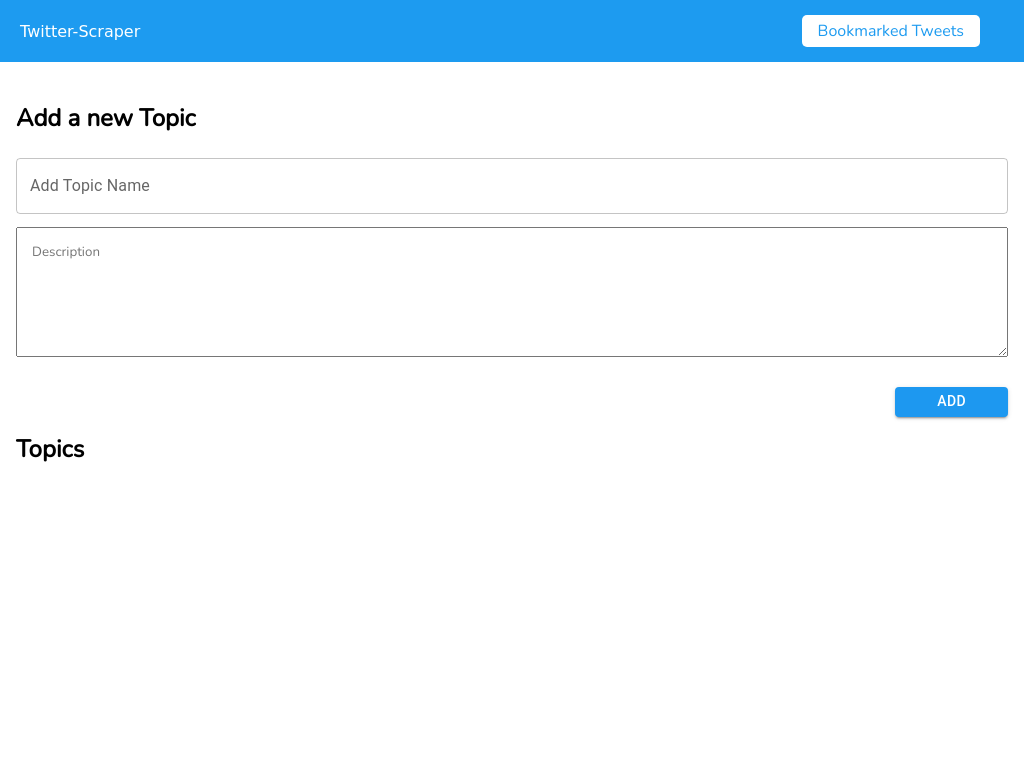
Test case: test for TopicsPage › should add a new topic to the list
Type "GREATEST ARTISTS OF ALL TIME" into the field with test id "topic-name".
click(512, 186); type("GREATEST ARTISTS OF ALL TIME")  # box [16,158,1008,214]
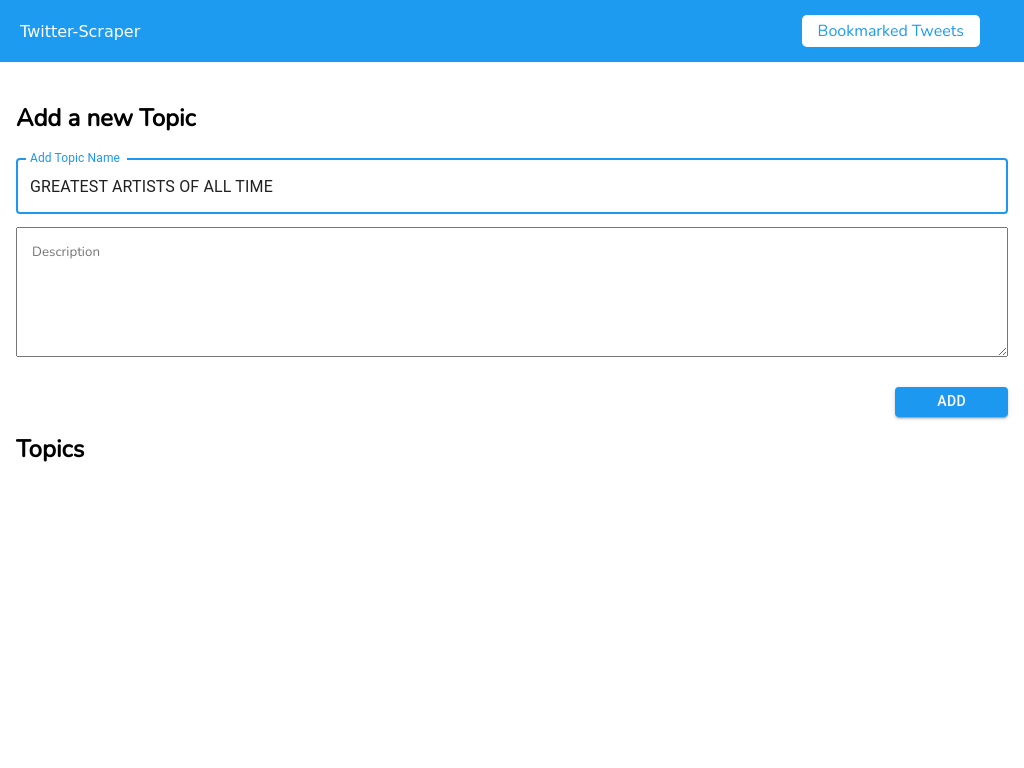
Type "GREATEST ARTISTS OF ALL TIME" into the text box with test id "topic-desc".
click(512, 292); type("GREATEST ARTISTS OF ALL TIME")  # box [16,227,1008,357]
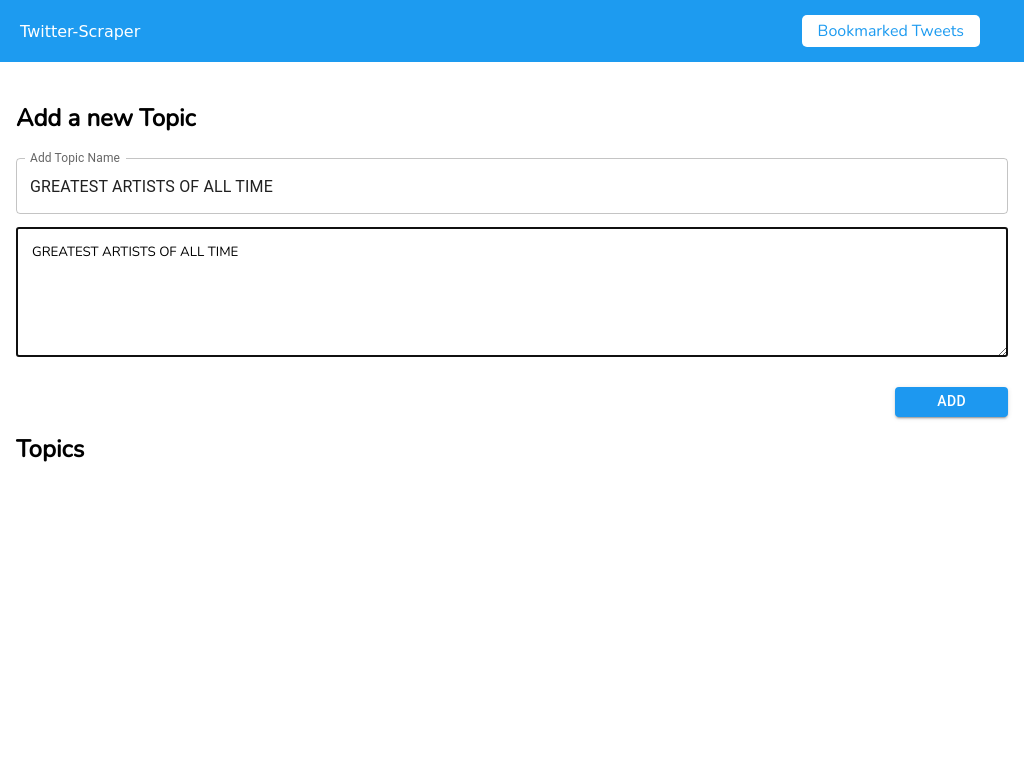
Click the button with test id "addNewTopicBtn".
click(952, 402)  # box [895,387,1008,417]
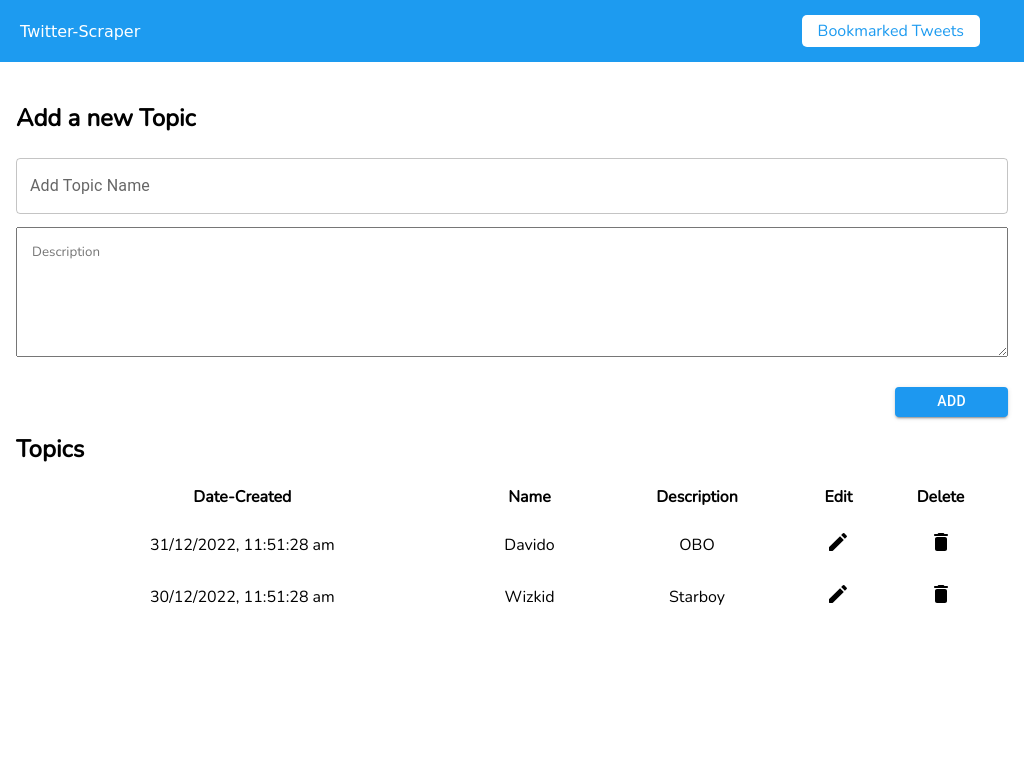
expect the number of rows with test id "tableItems" is 2: met, box [26,529,998,561]; [26,581,998,613]
